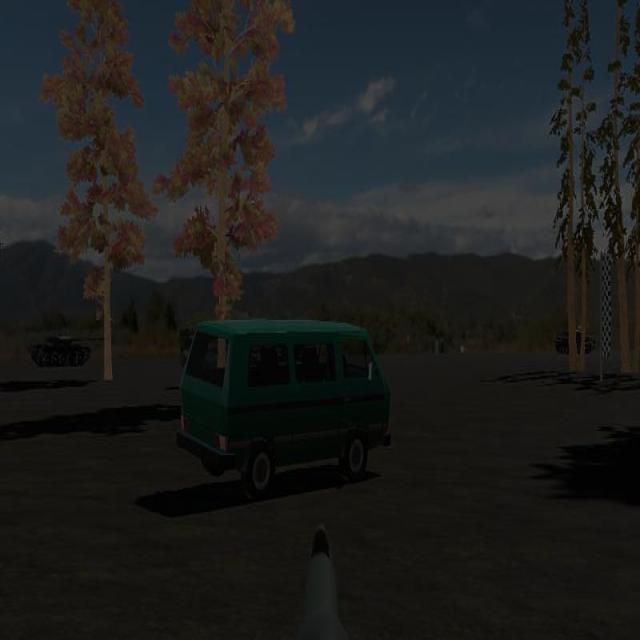Tank: (28, 331, 107, 369)
car: (176, 318, 390, 500)
